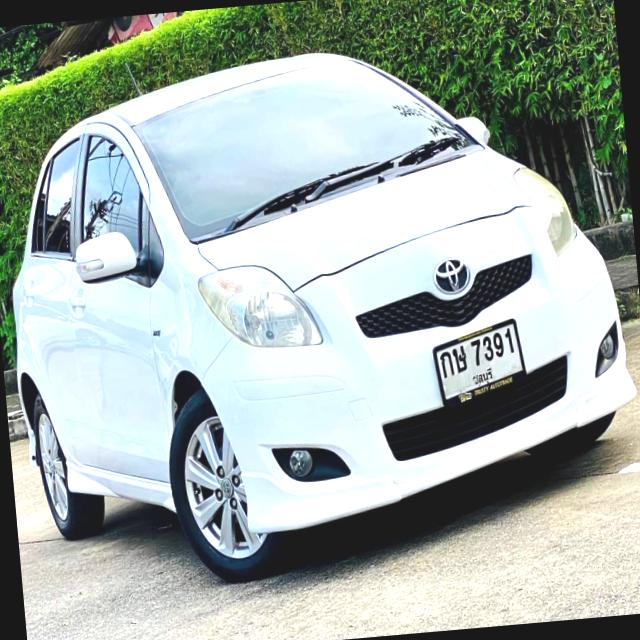license_plate: (424, 313, 532, 412)
